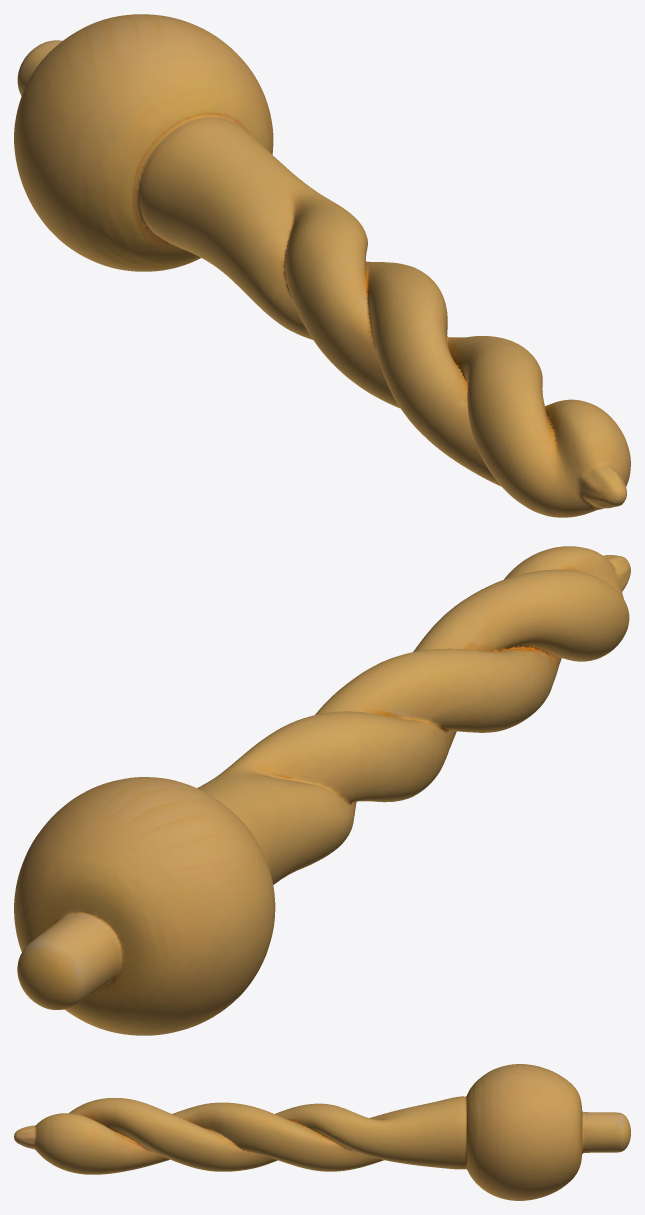
Rendered from detailed_realistic_model_goldensnitch_02.glb.
3 renders of one model, top to bottom at view 1: azimuth 30°, elevation 25°; view 2: azimuth 150°, elevation 25°; view 3: azimuth 270°, elevation 25°, orthographic. The views are drawn at different scales.
Visible parts, largest first — view 1: tripo_node_63db6f30-6113-4e75-83bb-29789774e072; view 2: tripo_node_63db6f30-6113-4e75-83bb-29789774e072; view 3: tripo_node_63db6f30-6113-4e75-83bb-29789774e072.
Part boxes in pixels (x1,y1,x2,y2): tripo_node_63db6f30-6113-4e75-83bb-29789774e072: (14,14,630,517); tripo_node_63db6f30-6113-4e75-83bb-29789774e072: (14,546,630,1035); tripo_node_63db6f30-6113-4e75-83bb-29789774e072: (14,1064,630,1200).
Size of the model in its own units: 0.2224 by 0.2223 by 1.
Materials: 1 (1 with a texture image).
